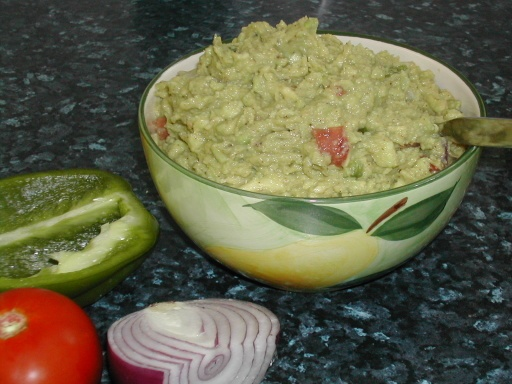background: (122, 8, 373, 117), (85, 53, 224, 230), (0, 100, 127, 230)
